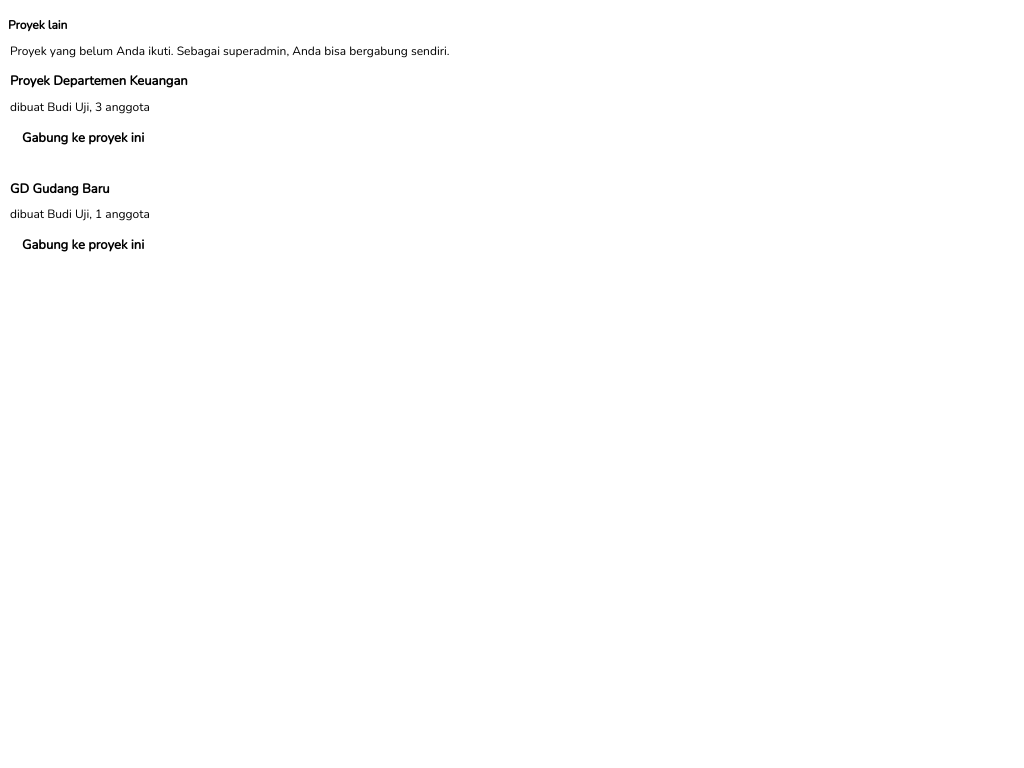
Test case: Proyek lain (superadmin) › menampilkan pembuat dan jumlah anggota, lalu bergabung setelah konfirmasi
This screenshot has width=1024, height=768.
Expected: the text "Proyek Departemen Keuangan" is shown, top-left (10, 72), bottom-right (188, 92)
Expected: the text "dibuat Budi Uji, 3 anggota" is shown, top-left (10, 98), bottom-right (150, 116)
Click the button "Gabung ke proyek ini" below "Proyek Departemen Keuangan" at coordinates (83, 138), box top-left (10, 122), bottom-right (156, 156)
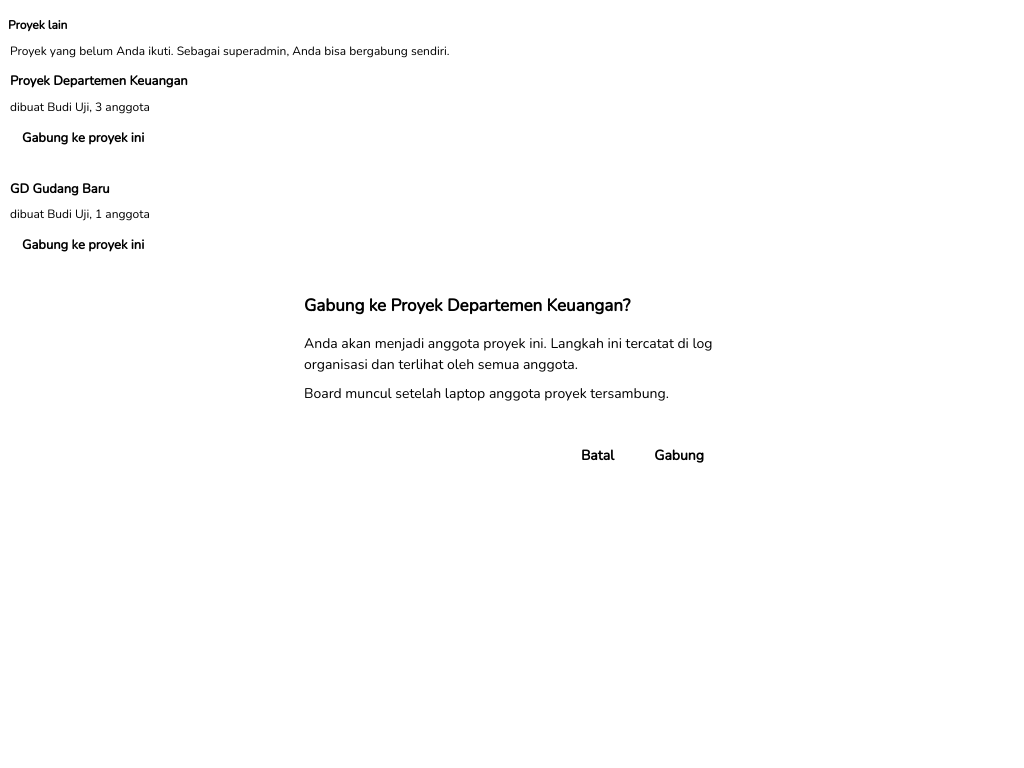
Result: the text "Anda akan menjadi anggota proyek ini. Langkah ini tercatat di log organisasi dan terlihat oleh semua anggota." is shown at top-left (304, 333), bottom-right (712, 373)
Result: the text "Board muncul setelah laptop anggota proyek tersambung." is shown at top-left (304, 382), bottom-right (720, 403)
Click the button "Gabung" at coordinates (679, 455), box top-left (638, 435), bottom-right (720, 475)
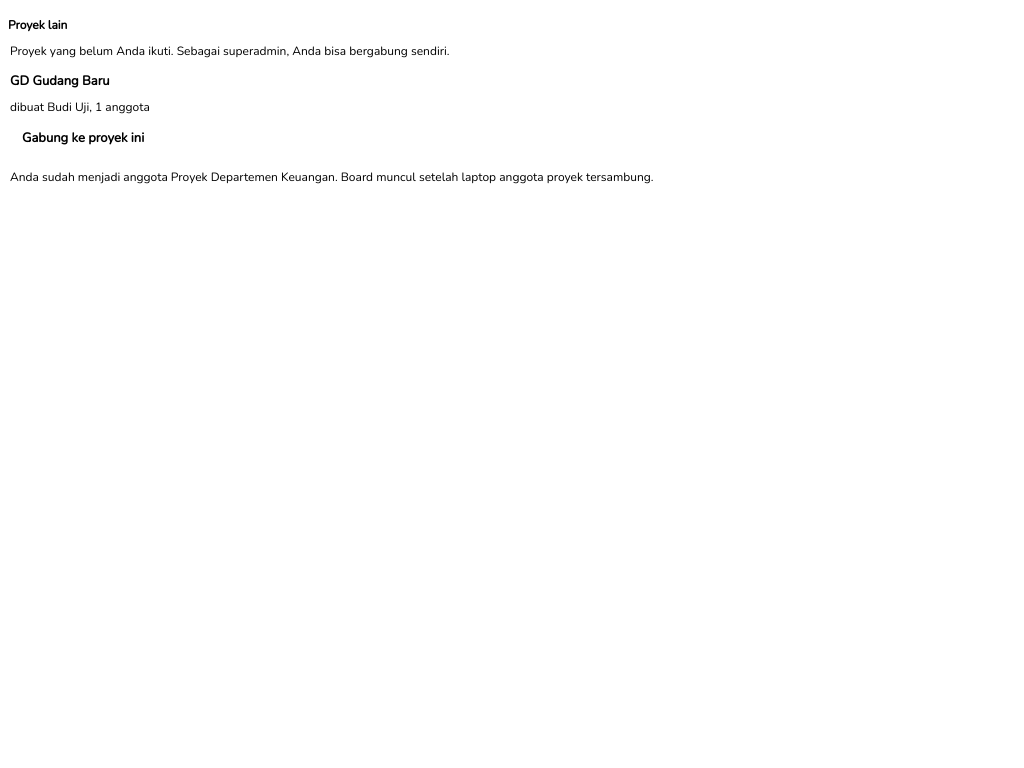
Result: the dialog is gone
Result: the message shows "Anda sudah menjadi anggota Proyek Departemen Keuangan. Board muncul setelah laptop anggota proyek tersambung." at top-left (10, 168), bottom-right (654, 184)
